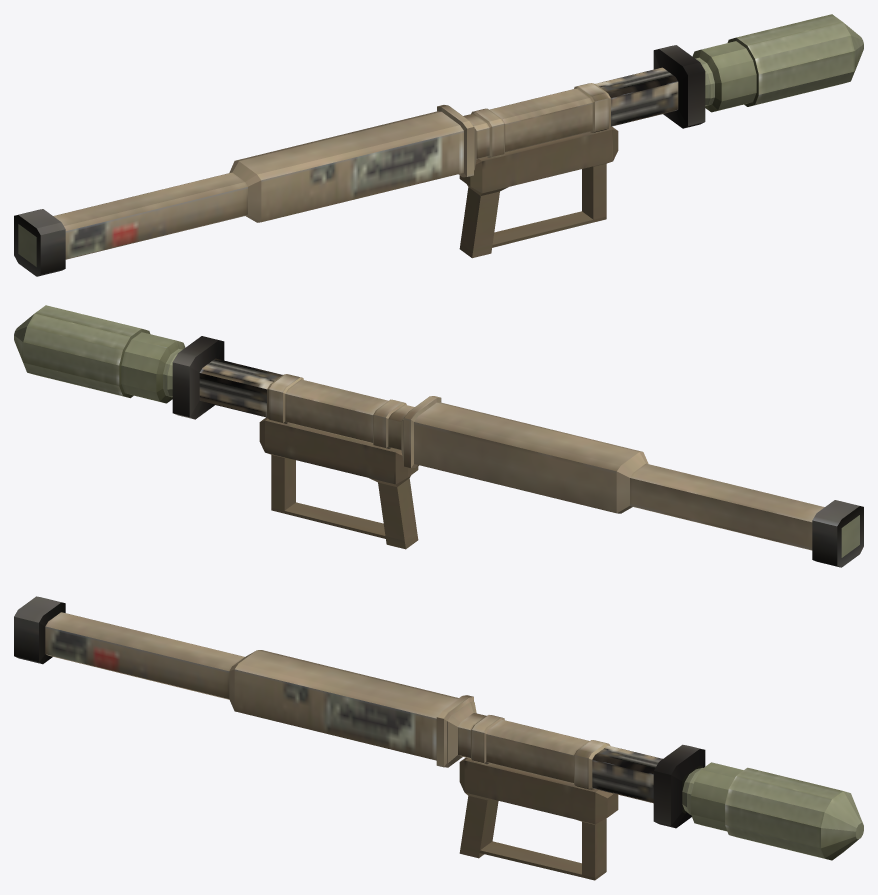
Rendered from Rpg.fbx.
The picture shows the model from 3 angles, top to bottom: view 1: azimuth 30°, elevation 25°; view 2: azimuth 150°, elevation 25°; view 3: azimuth 330°, elevation 25°; orthographic projection.
Parts seen in each view (by area): view 1: Rpg, Rocket; view 2: Rpg, Rocket; view 3: Rpg, Rocket.
Part boxes in pixels (x1,y1,x2,y2): Rpg: (14,45,705,276); Rocket: (692,14,863,112); Rpg: (172,336,863,567); Rocket: (14,305,185,403); Rpg: (14,596,705,880); Rocket: (682,762,863,860).
Size of the model in its own units: 353 by 59.17 by 25.25.
